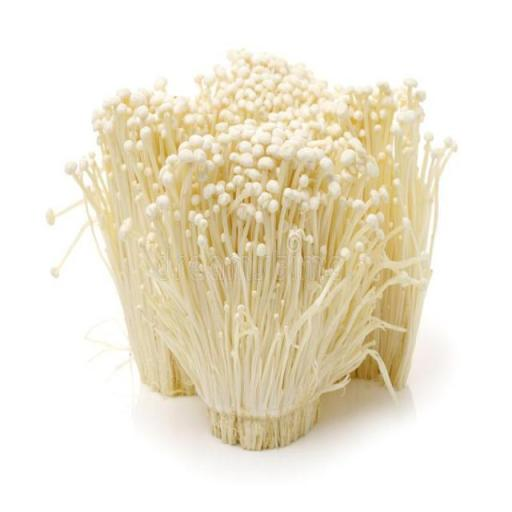Enoki Mushroom: (46, 51, 458, 448)
